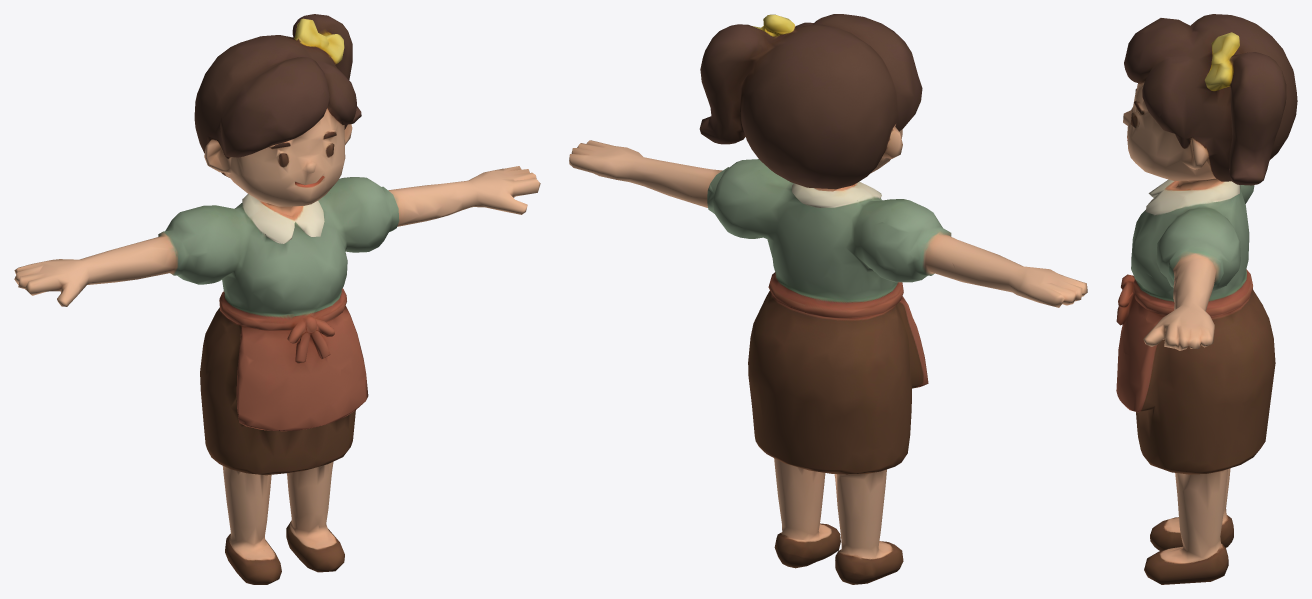
Rendered from s4_staff_server_base.fbx.
The picture shows the model from 3 angles, left to right: view 1: azimuth 30°, elevation 25°; view 2: azimuth 150°, elevation 25°; view 3: azimuth 270°, elevation 25°; orthographic projection. The views are drawn at different scales.
Visible parts, largest first — view 1: owner_casualpoly; view 2: owner_casualpoly; view 3: owner_casualpoly.
Part boxes in pixels (x1,y1,x2,y2): owner_casualpoly: [14, 14, 540, 584]; owner_casualpoly: [569, 14, 1087, 584]; owner_casualpoly: [1116, 14, 1297, 584].
Size of the model in its own units: 99.25 by 100 by 29.77.
Materials: 1 (1 with a texture image).
